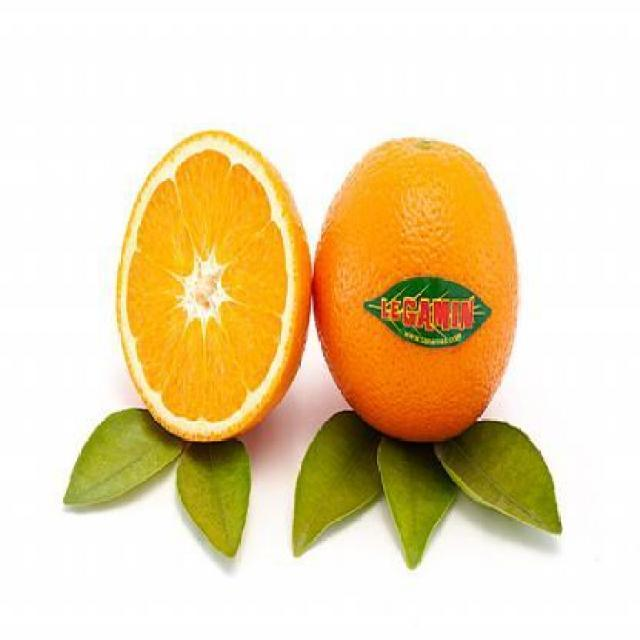Jeruk Sudah Matang: (312, 130, 520, 435)
